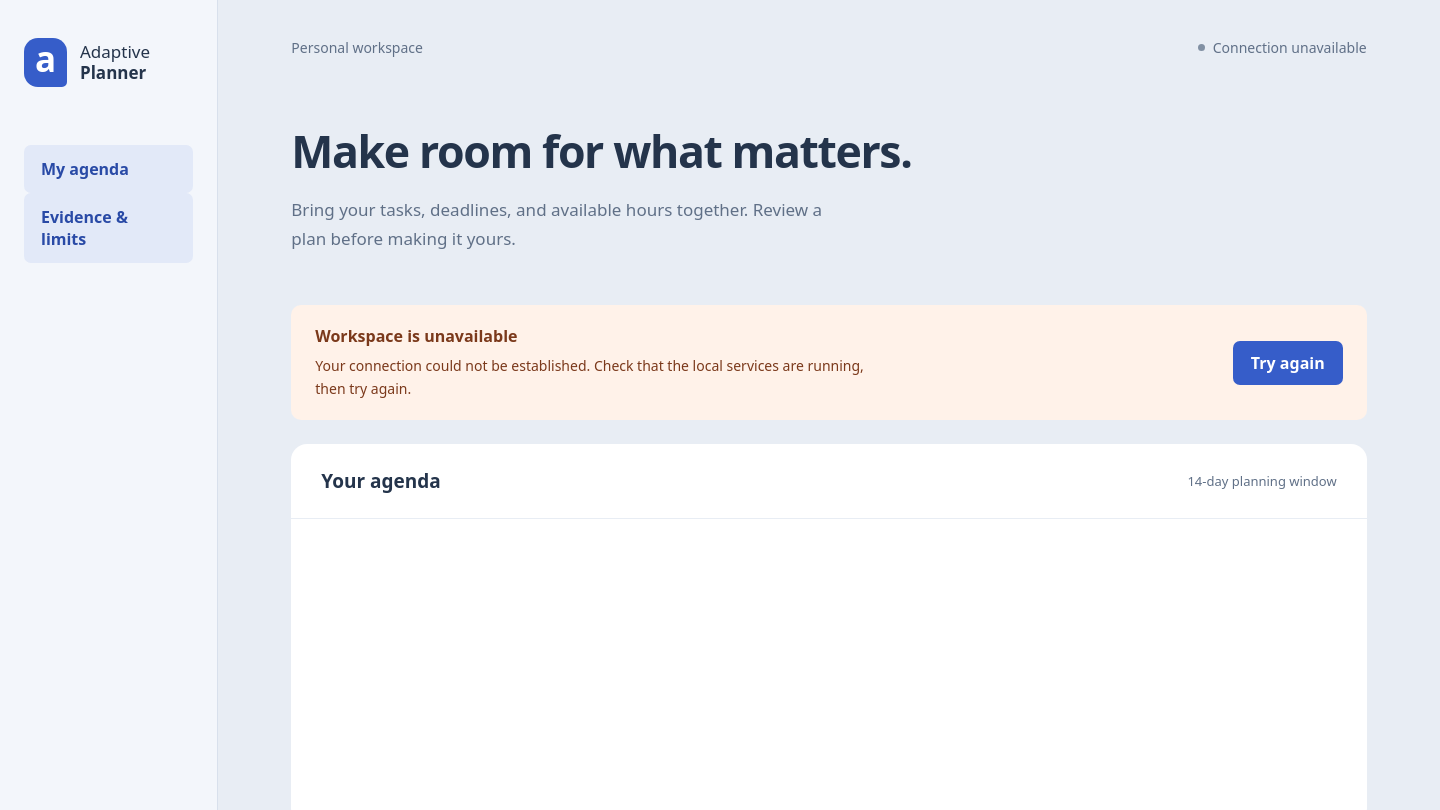
Test: shows a recoverable failure and reconnects when retry succeeds
The image size is (1440, 810).
Expected: the message that starts with "Workspace is unavailable" is shown, [315,325,518,347]
Step 1. Click the button "Try again" → (1288, 362), box [1233,340,1343,384]
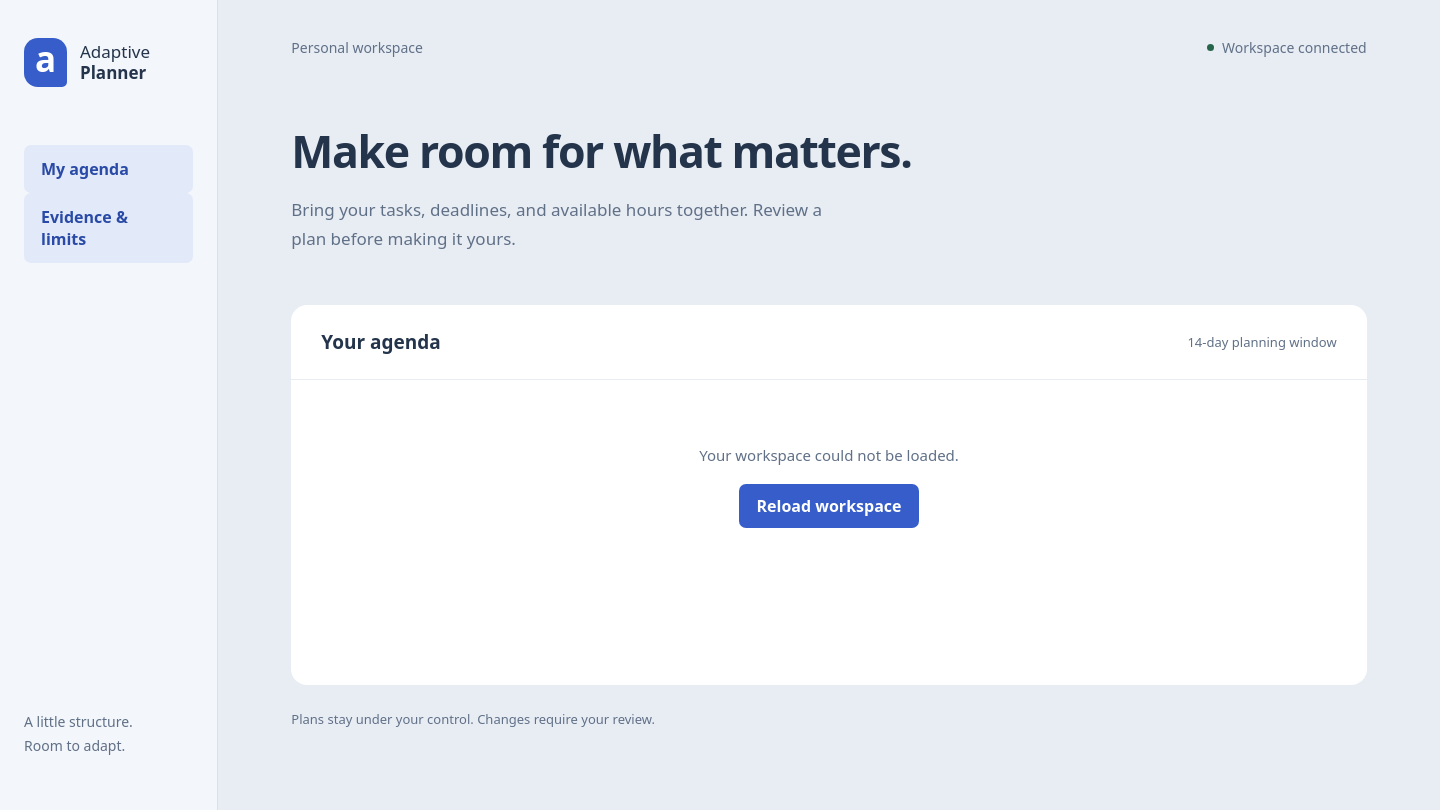
Expected: the text "Workspace connected" is shown, [1207,38,1367,57]
